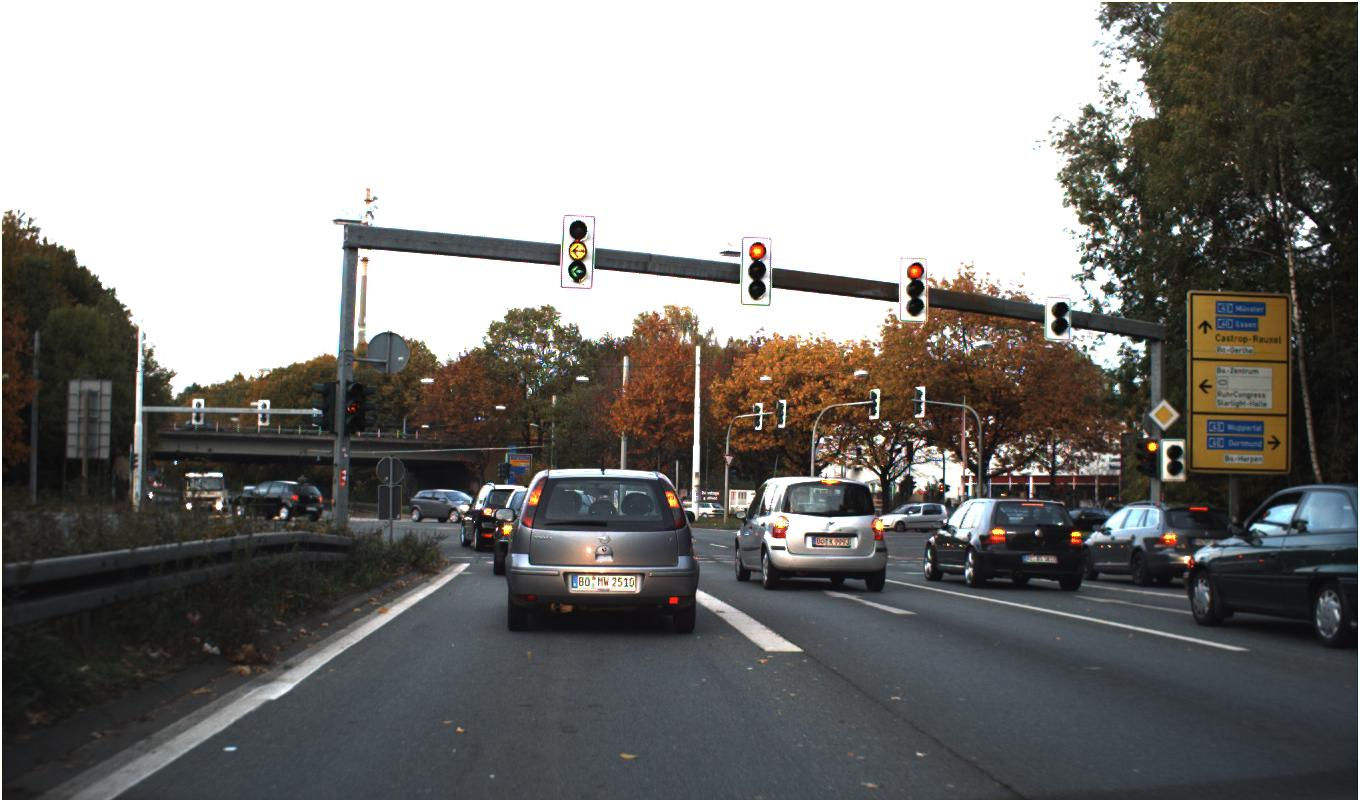sign: (1147, 397, 1180, 431)
